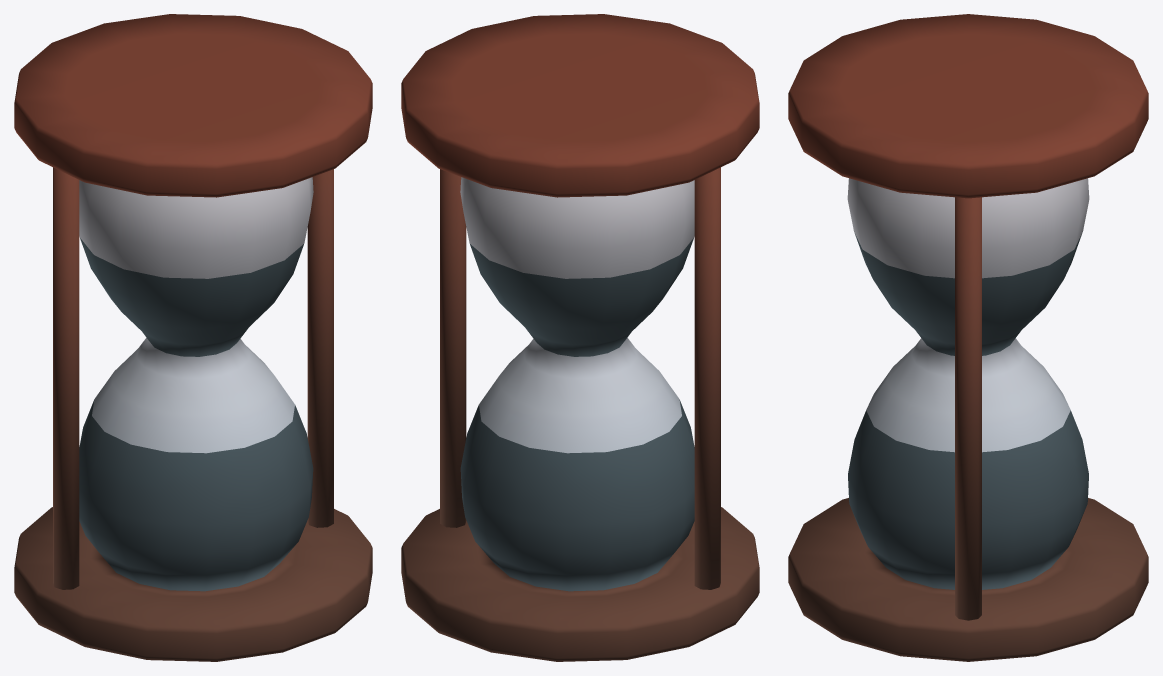
The model's file is Time.fbx.
3 views of the same model, side by side, from view 1: azimuth 30°, elevation 25°; view 2: azimuth 150°, elevation 25°; view 3: azimuth 270°, elevation 25° (orthographic).
Parts seen in each view (by area): view 1: Time; view 2: Time; view 3: Time.
Boxes of the visible parts, box(x1,y1,x2,y2) form: Time: box(14, 14, 372, 661); Time: box(401, 14, 759, 661); Time: box(788, 14, 1148, 661).
Size of the model in its own units: 139 by 212 by 139.
